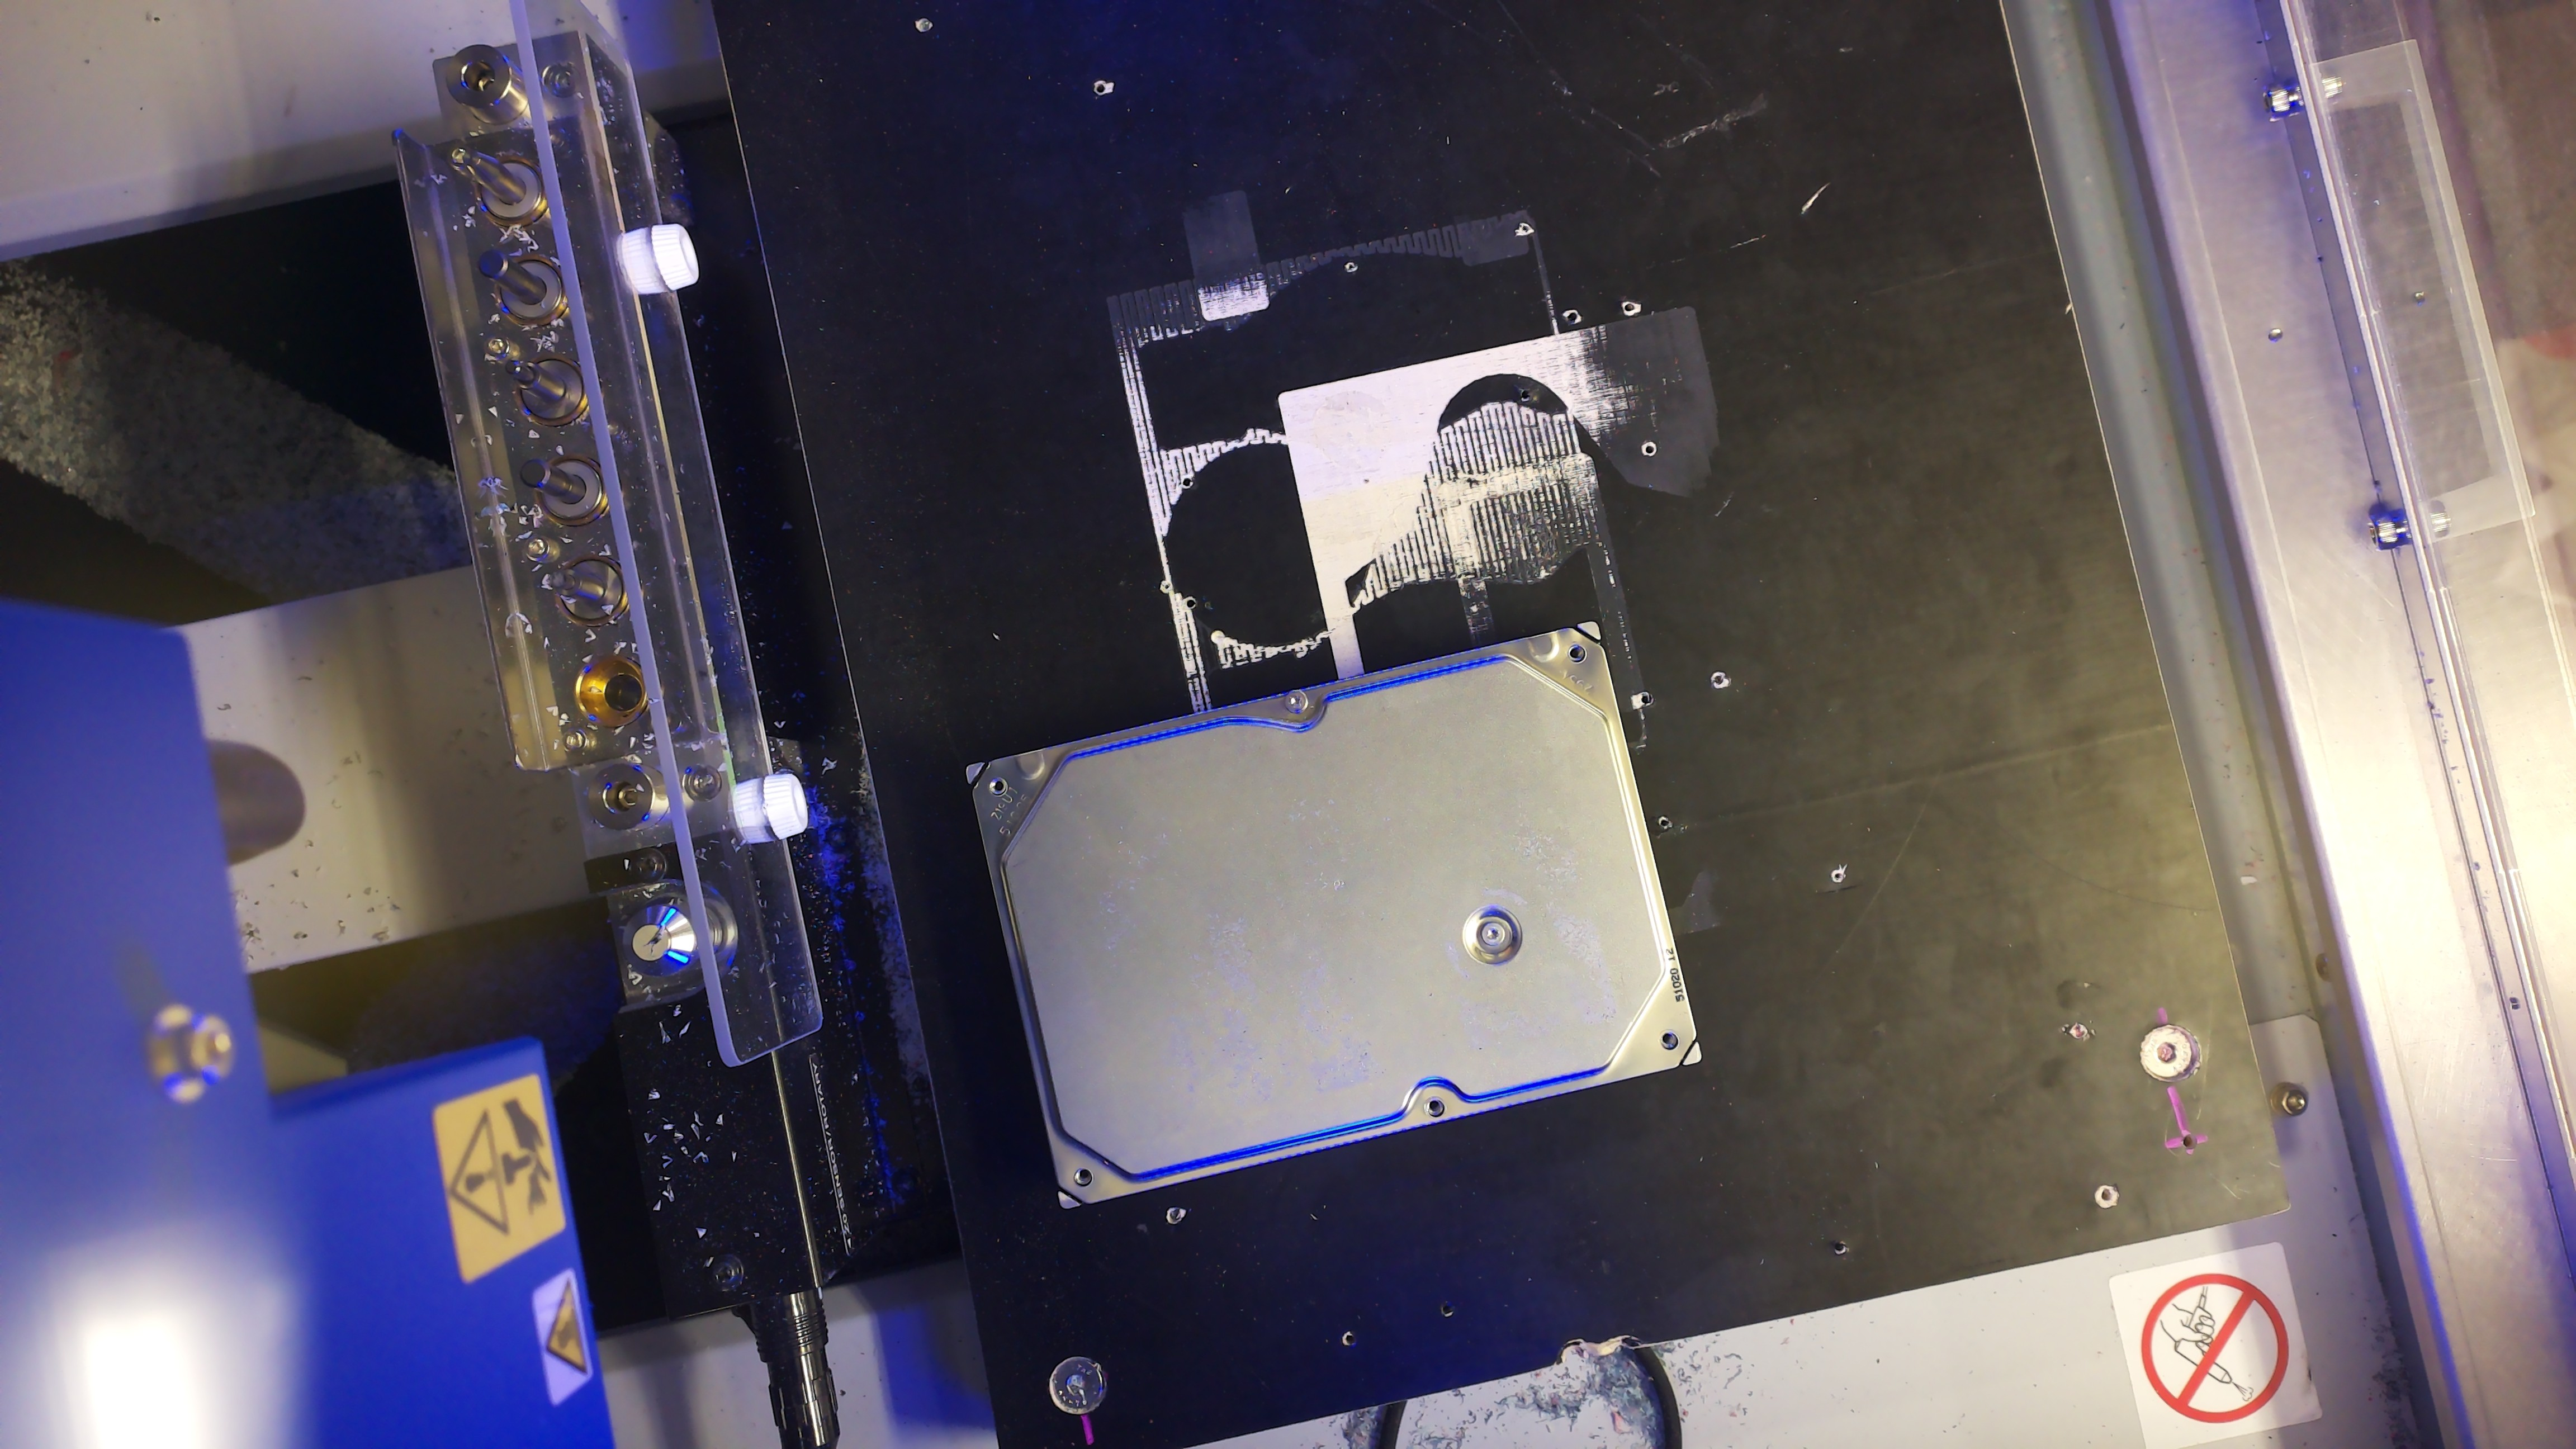Hole: (1422, 1095, 1445, 1120), (1660, 1030, 1679, 1051), (1074, 1168, 1093, 1187), (989, 777, 1008, 796), (1568, 644, 1587, 663)
Screw: (1483, 922, 1506, 947), (1284, 688, 1307, 713)
